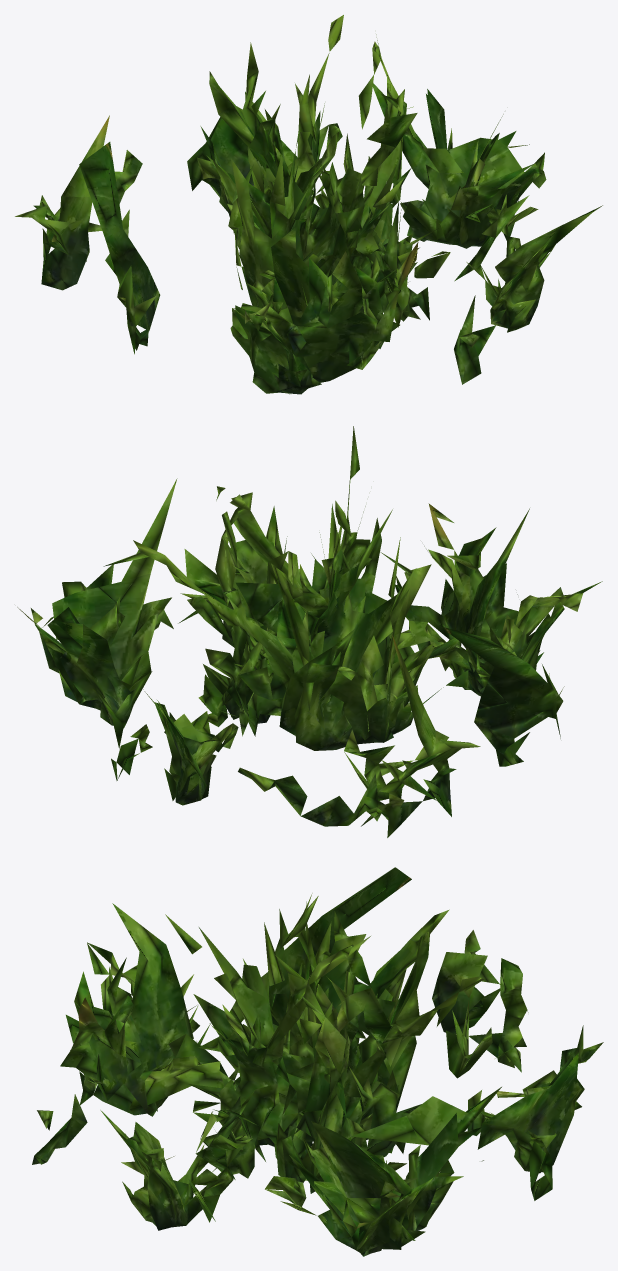
Rendered from bush-2.glb.
The picture shows the model from 3 angles, top to bottom: view 1: azimuth 30°, elevation 25°; view 2: azimuth 150°, elevation 25°; view 3: azimuth 270°, elevation 25°; orthographic projection. The views are drawn at different scales.
Visible parts, largest first — view 1: geometry_0; view 2: geometry_0; view 3: geometry_0.
Part boxes in pixels (x1,y1,x2,y2): geometry_0: [15, 15, 602, 394]; geometry_0: [17, 426, 602, 837]; geometry_0: [32, 867, 603, 1256].
Size of the model in its own units: 0.7172 by 0.3331 by 0.6666.
1 material, 1 textured.
